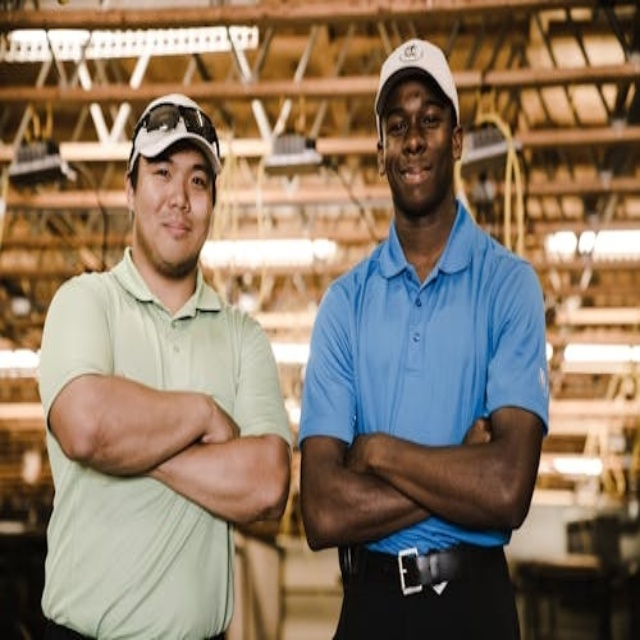Sin_gafas: (384, 100, 444, 144), (146, 159, 210, 199)
Sin_mascara: (155, 211, 193, 261), (396, 157, 434, 197)
